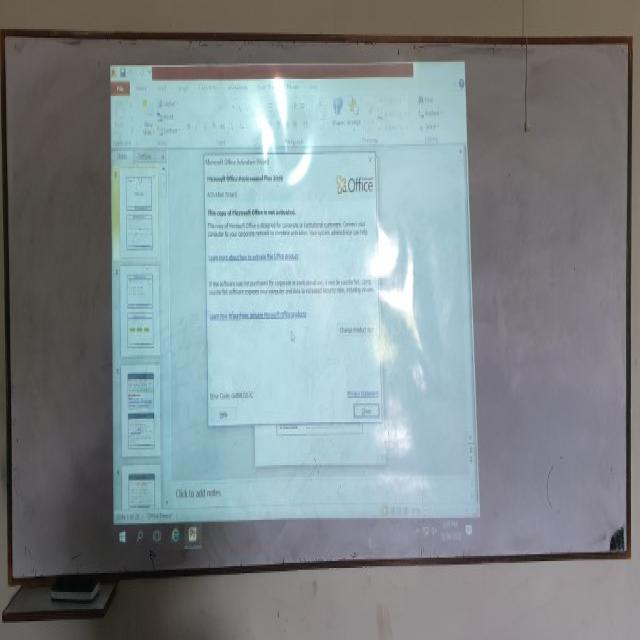Slide: (107, 58, 481, 552)
White-board: (3, 33, 629, 583)
